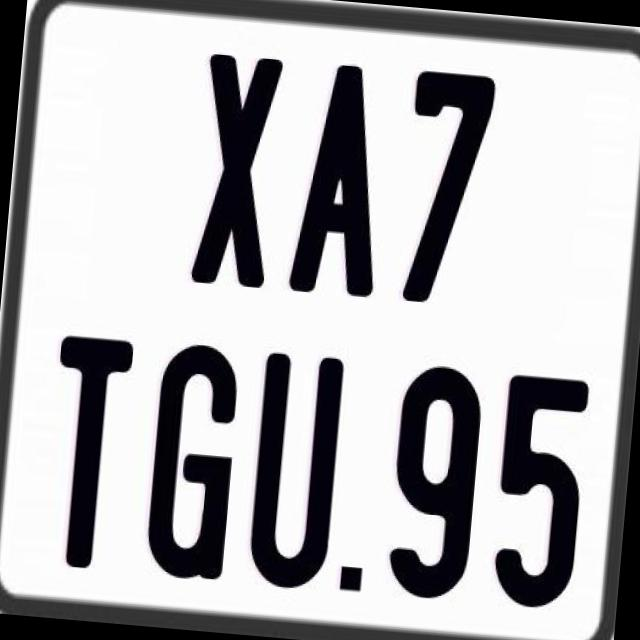5: (484, 374, 594, 620)
7: (396, 70, 494, 313)
9: (382, 360, 487, 600)
A: (286, 60, 392, 302)
G: (143, 337, 243, 580)
T: (39, 334, 134, 578)
U: (244, 351, 348, 594)
X: (187, 49, 282, 294)
